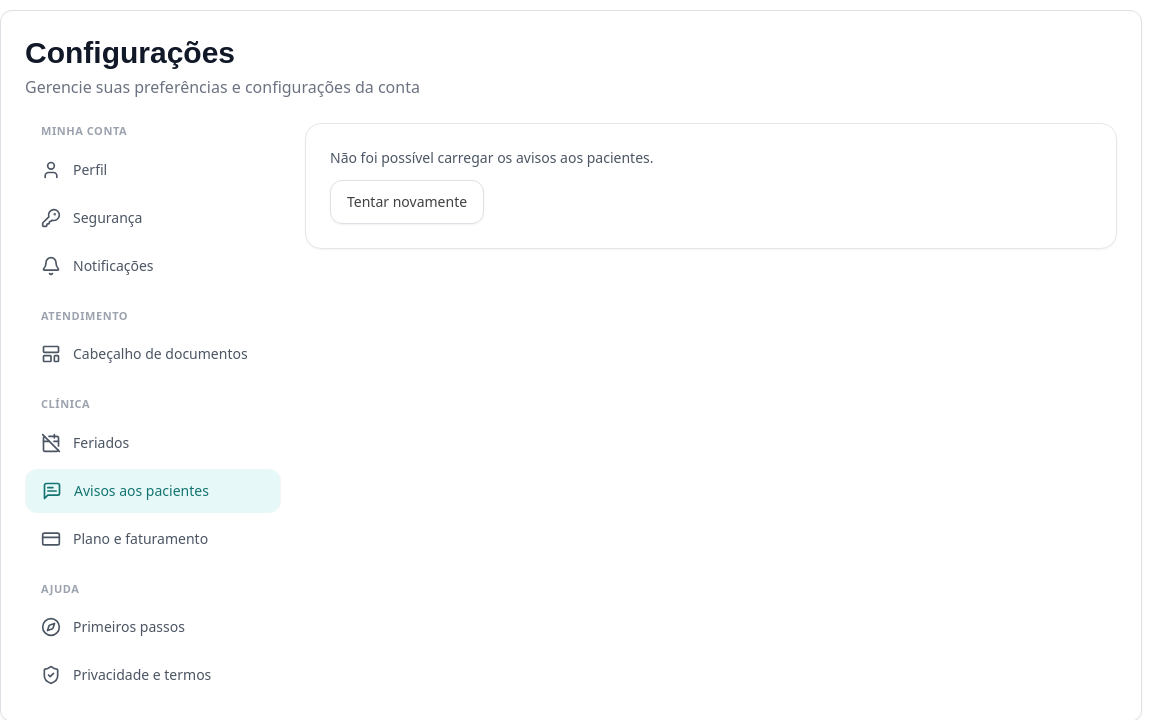
Configurações — aba Avisos aos pacientes › falha ao carregar mostra o erro e permite tentar de novo
Check: the text "Não foi possível carregar os avisos aos pacientes." is shown, box [330, 148, 654, 168]
Click the button "Tentar novamente": (407, 202) [330, 180, 484, 224]
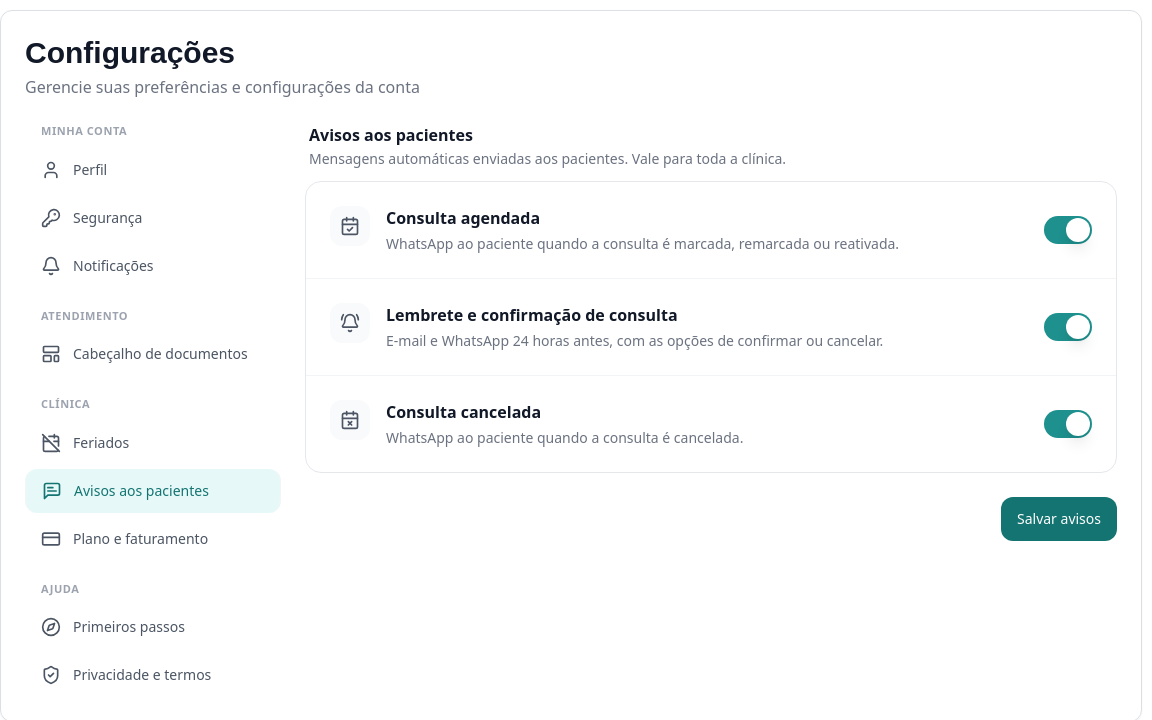
Check: the switch named "Consulta agendada" is checked, box [1044, 216, 1092, 244]
